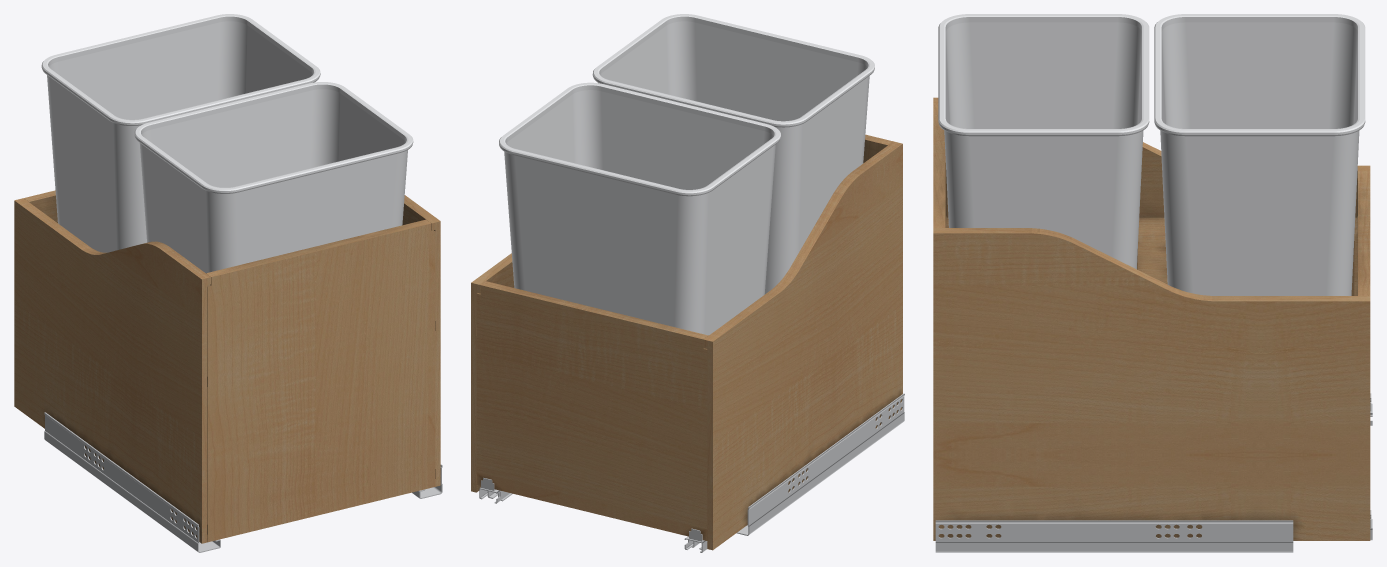
The model's file is inserts-double-trash-pullout-front-to-back.glb.
3 views of the same model, side by side, from view 1: azimuth 30°, elevation 25°; view 2: azimuth 150°, elevation 25°; view 3: azimuth 270°, elevation 25° (orthographic). The views are drawn at different scales.
Parts seen in each view (by area): view 1: insert; view 2: insert; view 3: insert.
Boxes of the visible parts, x1,y1,x2,y2 form: insert: (14, 14, 442, 552); insert: (471, 14, 904, 552); insert: (933, 14, 1372, 552).
Size of the model in its own units: 0.4186 by 0.578 by 0.5588.
6 materials, 1 textured.
